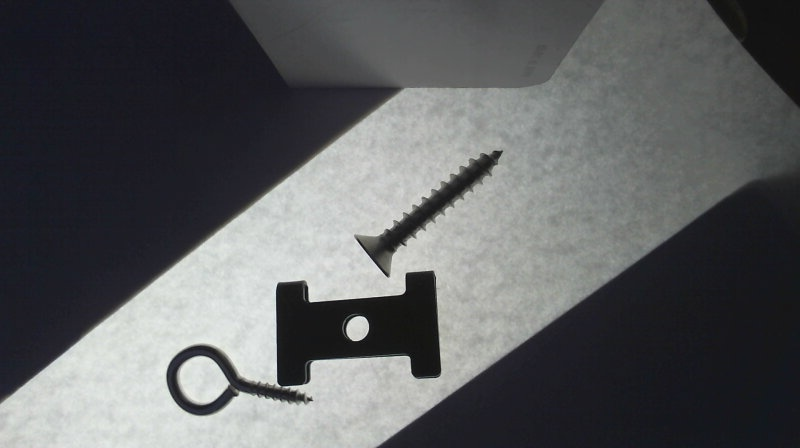O001: (164, 343, 314, 418)
O002: (272, 271, 443, 385)
S001: (353, 145, 504, 278)
